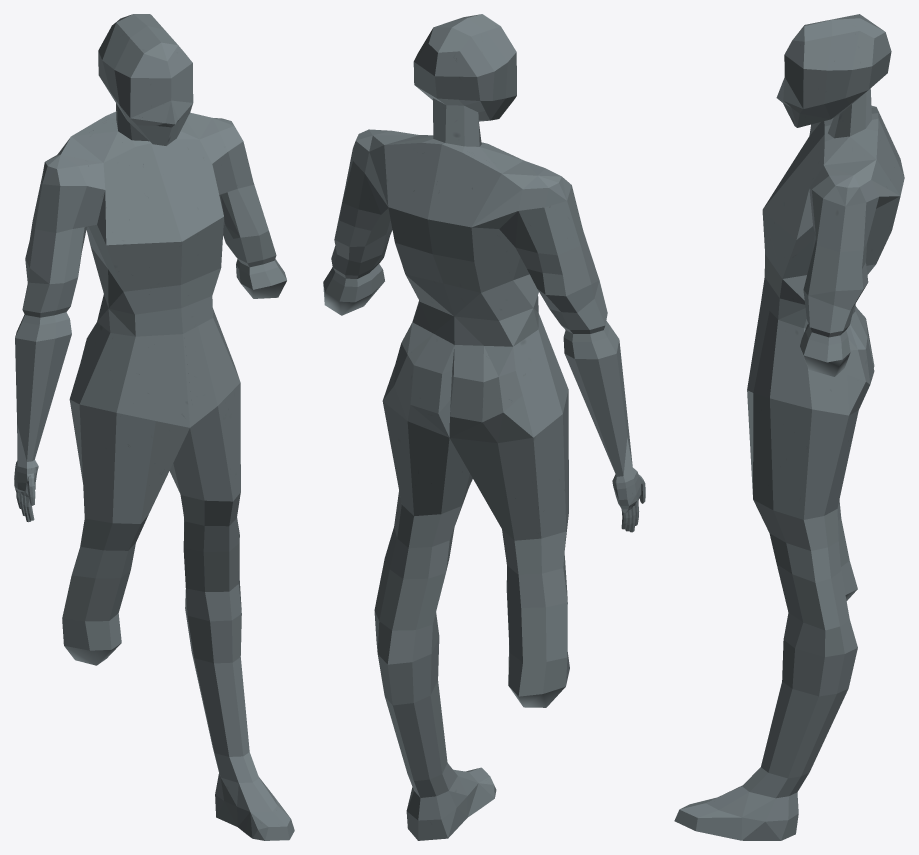
The model's file is PersonPre.glb.
3 views of the same model, side by side, from view 1: azimuth 30°, elevation 25°; view 2: azimuth 150°, elevation 25°; view 3: azimuth 270°, elevation 25° (orthographic). The views are drawn at different scales.
Visible parts, largest first — view 1: CryoPre; view 2: CryoPre; view 3: CryoPre.
Boxes of the visible parts, x1,y1,x2,y2 form: CryoPre: (14, 14, 294, 840); CryoPre: (323, 14, 645, 840); CryoPre: (674, 14, 904, 840).
Bounding box in the file's own units: 0.8117 × 2.2 × 0.5843.
1 material, 1 textured.
